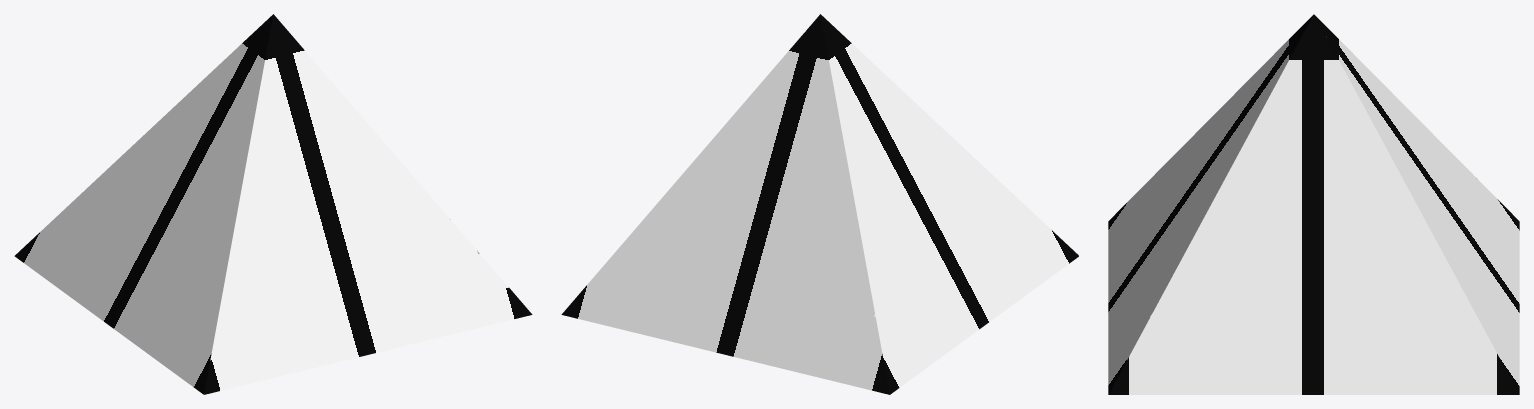
3 views of the same model, side by side, from view 1: azimuth 30°, elevation 25°; view 2: azimuth 150°, elevation 25°; view 3: azimuth 270°, elevation 25° (orthographic). The views are drawn at different scales.
Visible parts, largest first — view 1: pyramid; view 2: pyramid; view 3: pyramid.
Part boxes in pixels (left/top/right/bottom): pyramid: left=14, top=14, right=532, bottom=394; pyramid: left=561, top=14, right=1079, bottom=394; pyramid: left=1108, top=14, right=1519, bottom=394.
Size of the model in its own units: 1.19 by 0.9375 by 1.19.
Materials: 1 (1 with a texture image).
